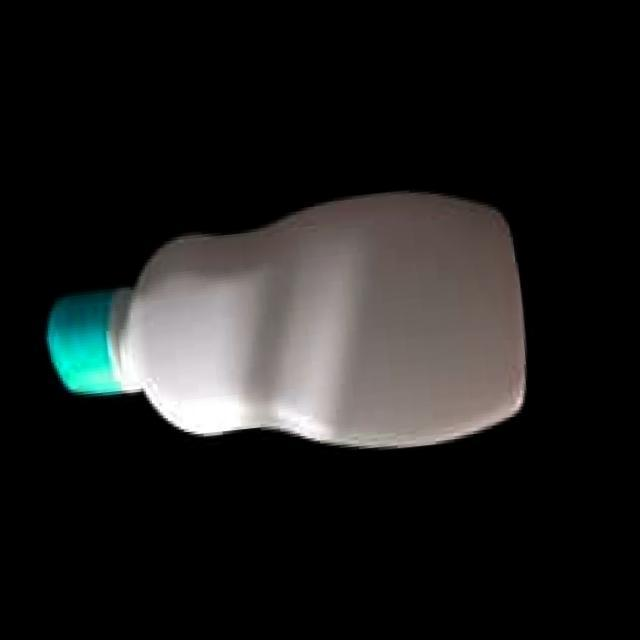HDPE Plastic: (42, 186, 531, 452)
